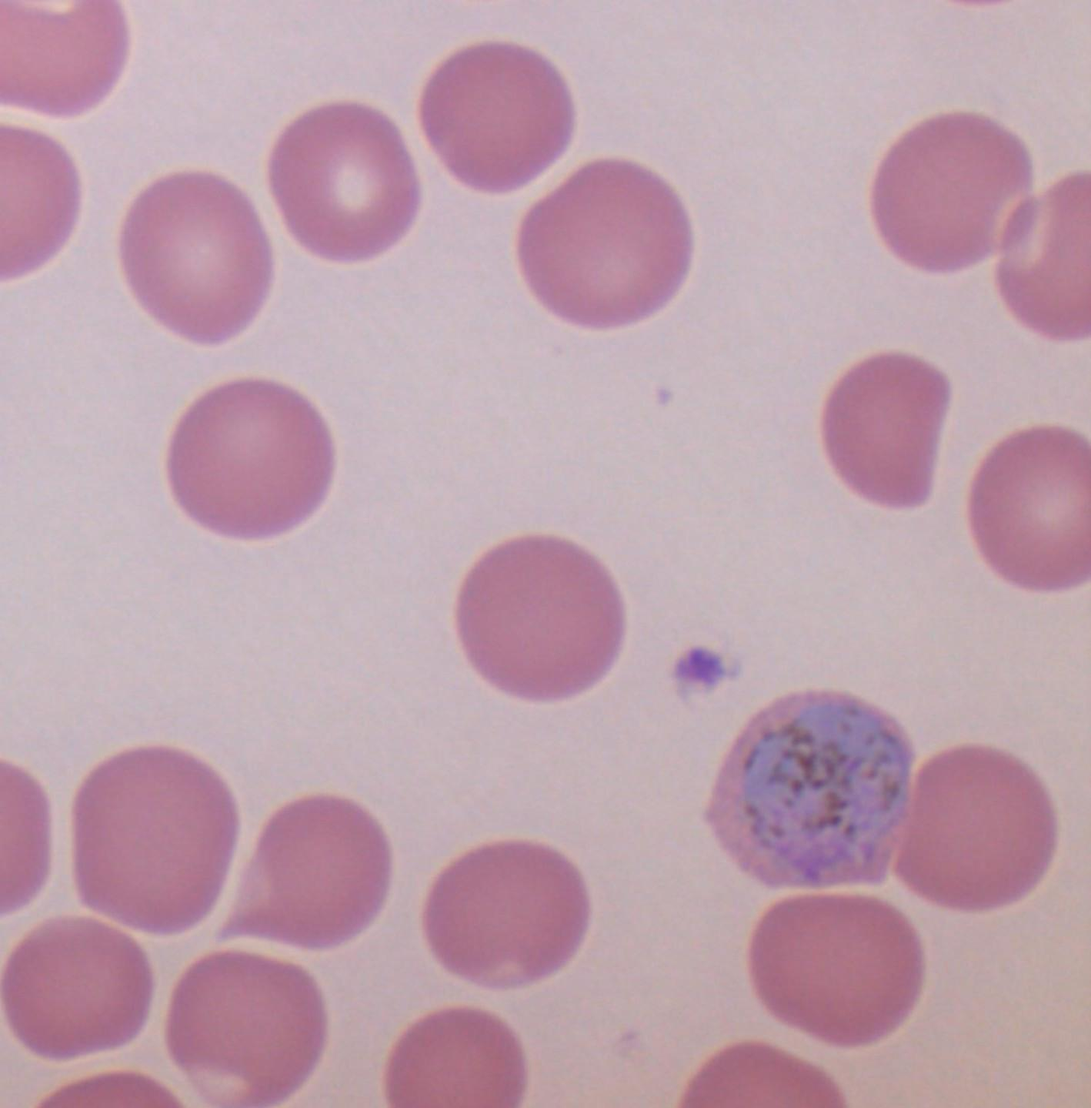Infected: (702, 687, 907, 882)
Uninfected: (74, 748, 240, 935), (515, 157, 695, 329), (454, 535, 625, 703), (163, 376, 332, 542), (118, 168, 278, 342), (263, 96, 427, 263), (896, 746, 1054, 911), (414, 36, 579, 194), (227, 795, 391, 953), (749, 892, 919, 1044), (871, 112, 1032, 272), (166, 948, 325, 1108), (422, 840, 584, 988), (3, 916, 150, 1060), (964, 425, 1090, 591), (820, 351, 949, 508), (999, 170, 1088, 334), (1, 0, 124, 115), (385, 1008, 523, 1108), (3, 125, 80, 282)
